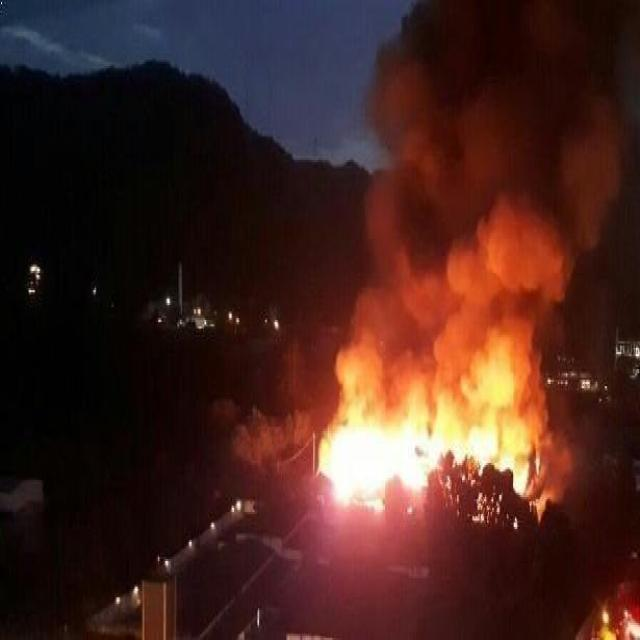Fire: (318, 412, 426, 508), (427, 436, 492, 472)
Smoke: (334, 2, 638, 408), (494, 408, 574, 498)
